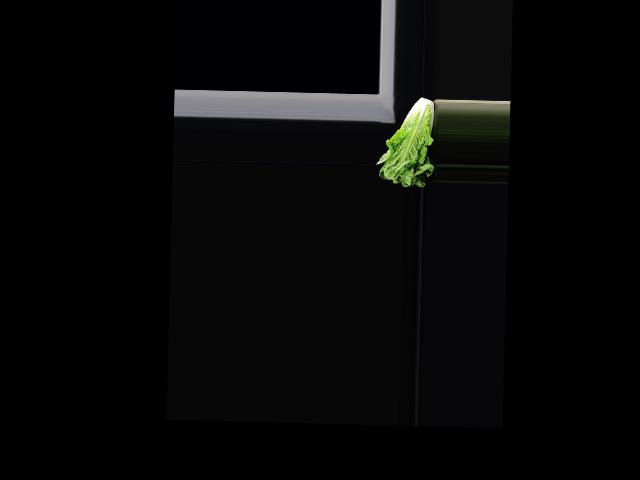lettuce: (376, 95, 436, 189)
